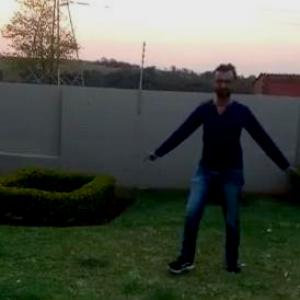land: (169, 73, 279, 235)
